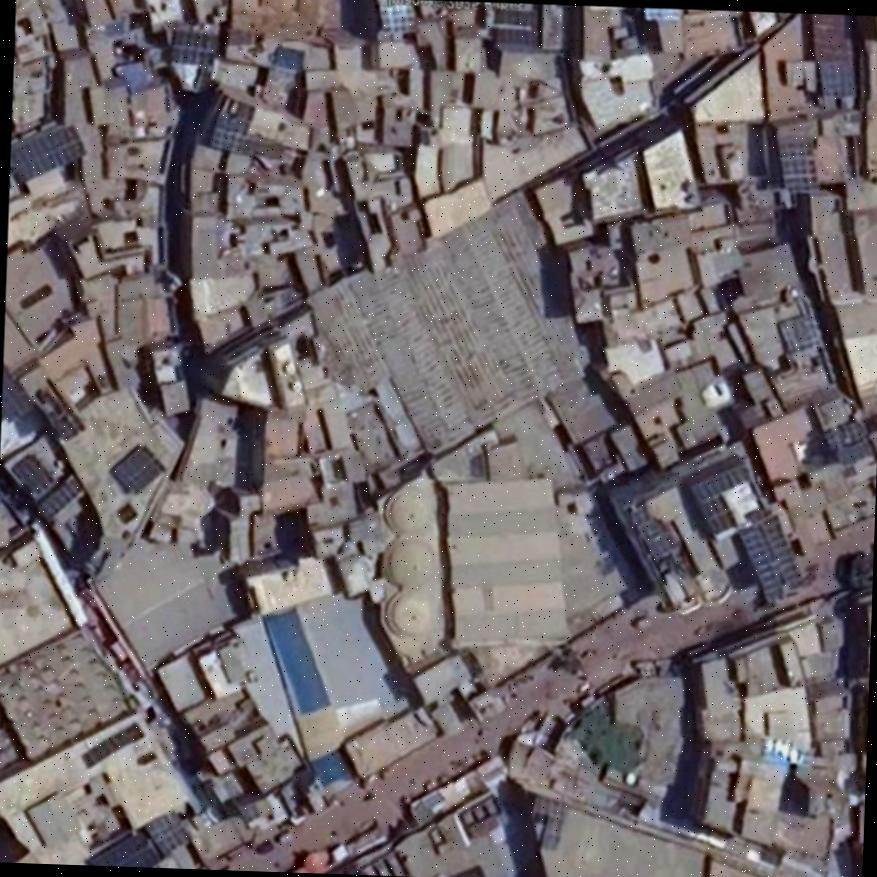Solarpanel: (740, 514, 802, 592), (686, 465, 756, 533), (10, 124, 85, 181), (87, 829, 161, 867), (107, 449, 162, 493), (142, 809, 187, 852), (39, 474, 82, 516), (171, 30, 219, 66), (493, 8, 541, 44), (12, 455, 52, 496), (780, 143, 815, 188), (778, 316, 818, 355), (210, 124, 258, 153)
